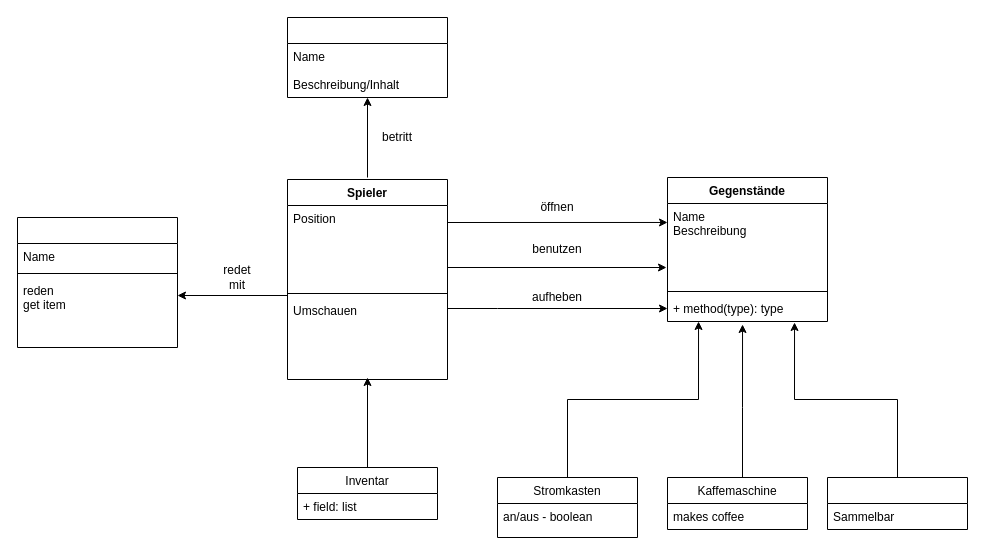
This 985x558 diagram has some shape labels left out. Here are the shapes that lost their labels. From the top down, the box of each, then its label:
(286, 16, 448, 98): Räume
(16, 216, 178, 348): Personen
(826, 476, 968, 530): Items
